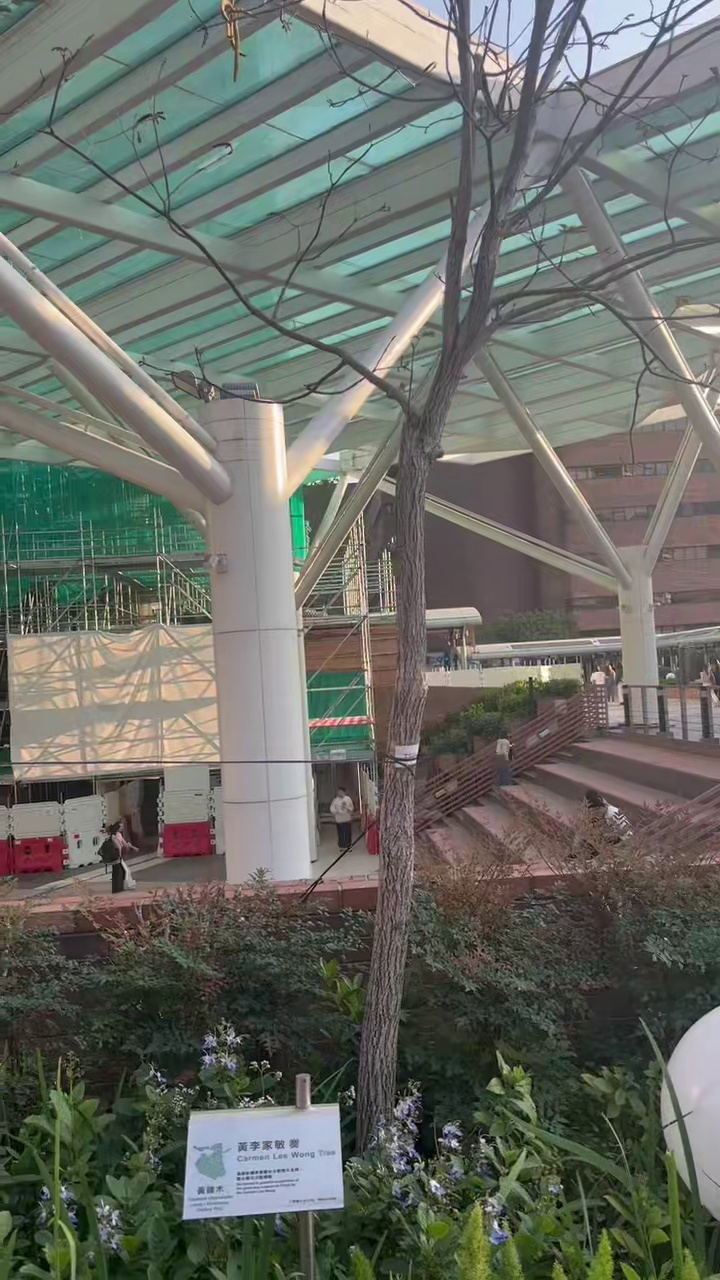Tabebuia chrysantha: (227, 0, 709, 1151)
